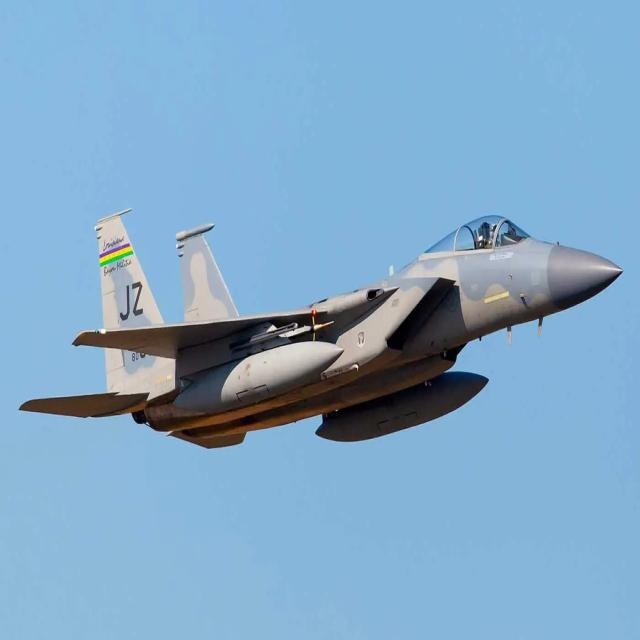F15: (9, 136, 640, 468)
